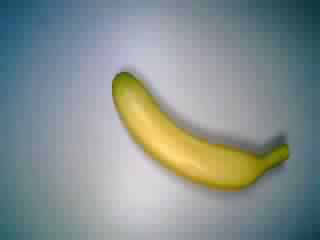banana: (110, 70, 292, 193)
